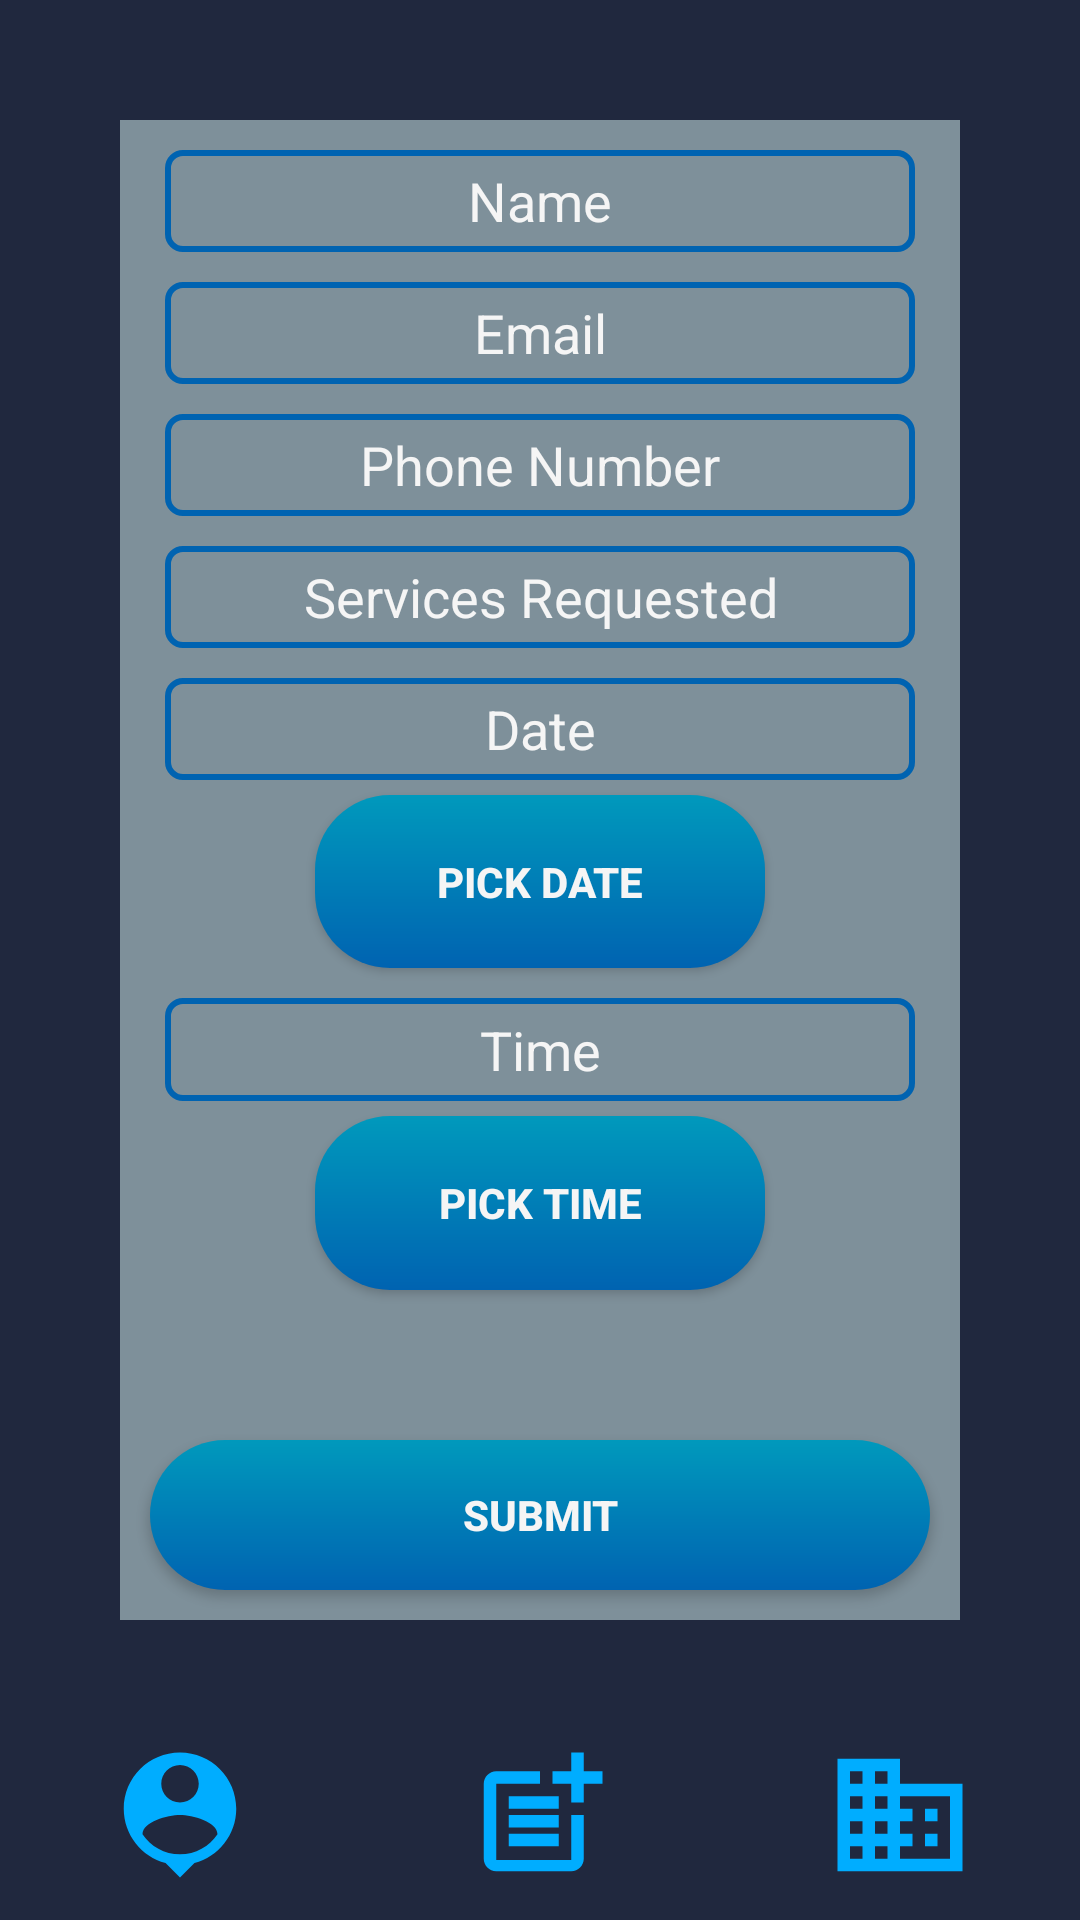

Icon bounding boxes for this 1080*1920 phone screenshot, format (x1, y1, x2, y2):
Booking Page ImageView: (483, 1752, 603, 1872)
Business Needs ImageView: (837, 1758, 963, 1872)
Personal Page Image: (123, 1752, 237, 1878)
